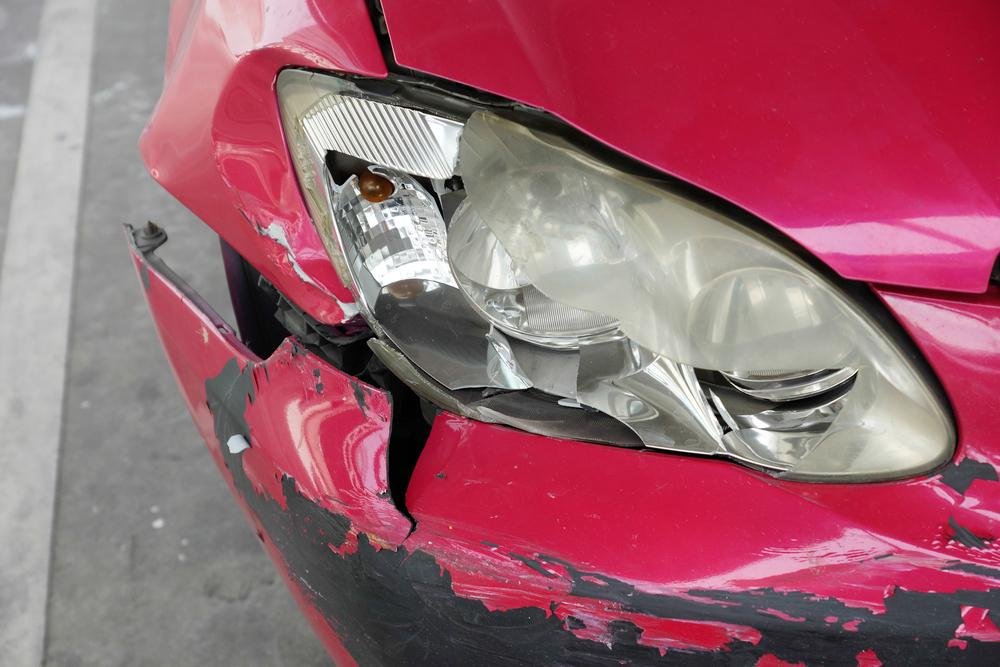crack: (380, 396, 441, 542)
dent: (211, 44, 357, 301)
lamp broken: (278, 67, 963, 485)
scratch: (205, 347, 1000, 667)
